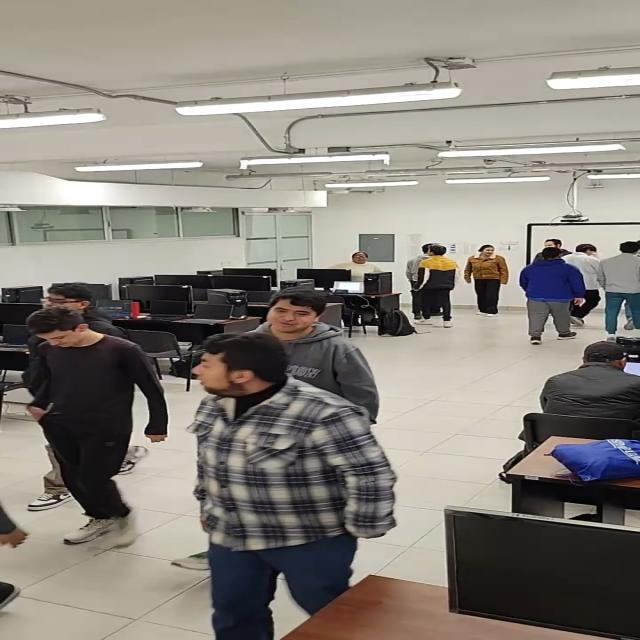Persona: (184, 337, 370, 636), (21, 308, 142, 553), (267, 289, 377, 396), (524, 247, 572, 343), (562, 244, 604, 327), (463, 242, 508, 316), (607, 240, 640, 338), (417, 245, 454, 329)
